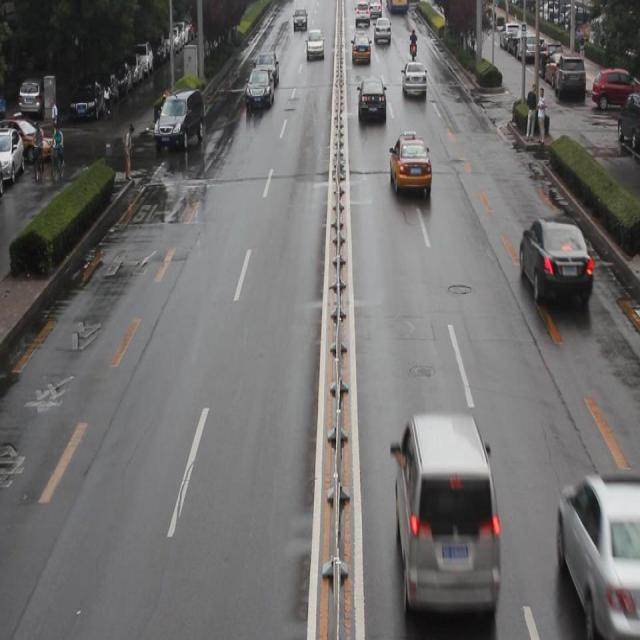car: (558, 471, 640, 619), (518, 216, 591, 308), (388, 132, 429, 196), (356, 79, 385, 120)
truck: (390, 418, 498, 605), (153, 90, 202, 152)
